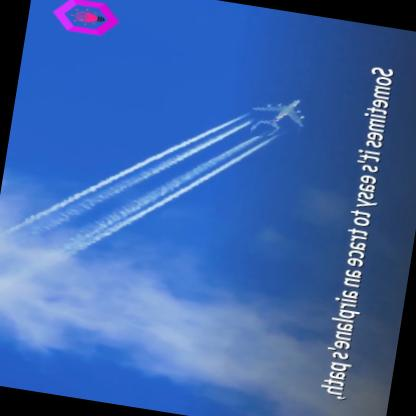plane: (244, 83, 317, 141)
